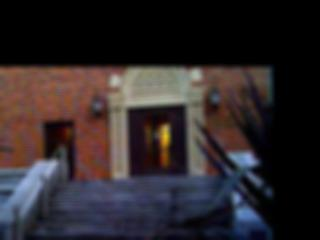Escaleras: (21, 185, 225, 240)
